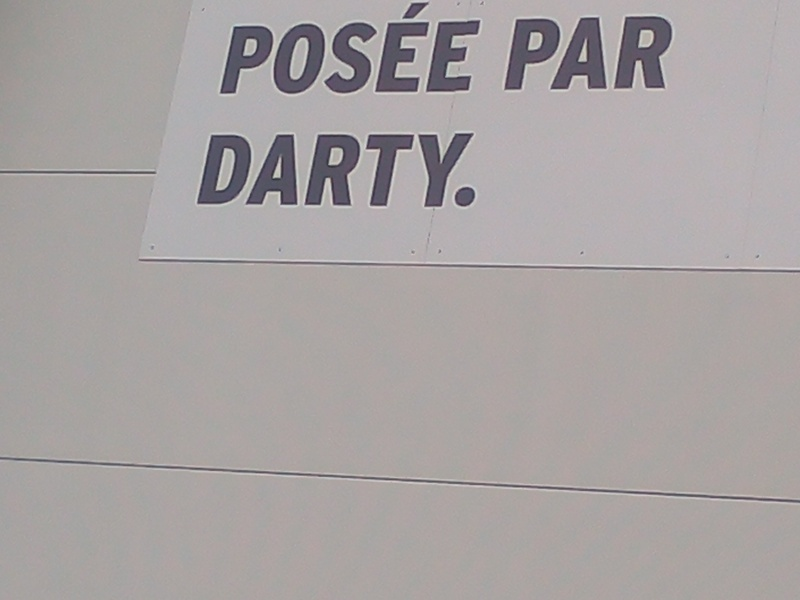text: (241, 1, 256, 95), (257, 1, 272, 95), (273, 1, 288, 95), (289, 1, 304, 95), (305, 1, 320, 95), (321, 1, 336, 95), (337, 1, 352, 95), (353, 1, 368, 95), (369, 1, 384, 95), (385, 1, 400, 95), (401, 1, 416, 95), (417, 1, 432, 95), (433, 1, 448, 95), (449, 1, 464, 95), (465, 1, 480, 95), (225, 132, 240, 209), (241, 132, 256, 209), (257, 132, 272, 209), (273, 132, 288, 209), (289, 132, 304, 209), (305, 132, 320, 209), (321, 132, 336, 209), (337, 132, 352, 209), (353, 132, 368, 209), (369, 132, 384, 209), (385, 132, 400, 209), (401, 132, 416, 209), (417, 132, 432, 209), (433, 132, 448, 209), (449, 132, 464, 209), (529, 16, 544, 92), (545, 16, 560, 92), (561, 16, 576, 92), (577, 16, 592, 92), (593, 16, 608, 92), (609, 16, 624, 92), (625, 16, 640, 92), (641, 16, 656, 92), (657, 16, 672, 92), (210, 132, 224, 209), (465, 132, 477, 209), (516, 16, 528, 92), (481, 1, 485, 95), (673, 16, 676, 92), (238, 1, 240, 95)
